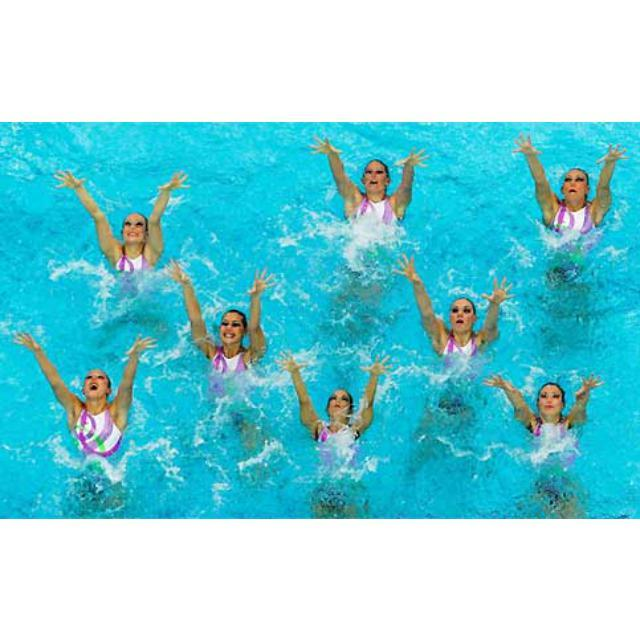human: (14, 326, 157, 462), (52, 163, 191, 275), (395, 253, 515, 361), (167, 260, 269, 385), (312, 136, 428, 242), (515, 133, 627, 239), (278, 350, 395, 446), (485, 371, 604, 445)
